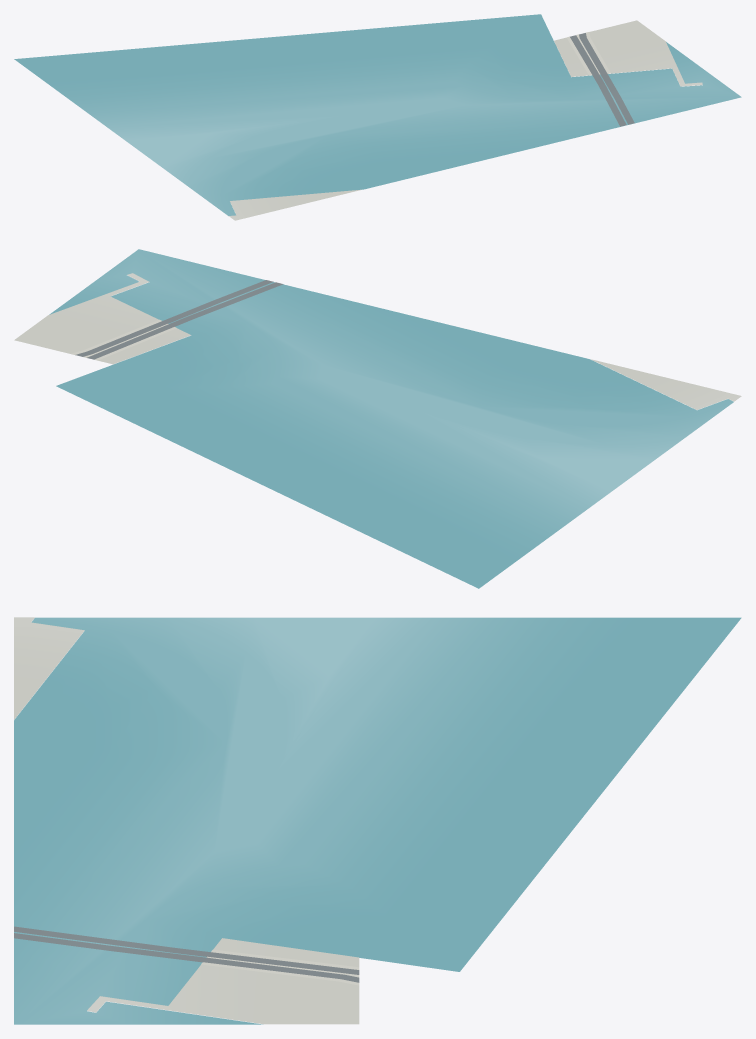
3 views of the same model, one above another, from view 1: azimuth 30°, elevation 25°; view 2: azimuth 150°, elevation 25°; view 3: azimuth 270°, elevation 25° (orthographic). The views are drawn at different scales.
Visible parts, largest first — view 1: city; view 2: city; view 3: city.
Part boxes in pixels (left/top/right/bottom): city: left=14, top=14, right=741, bottom=220; city: left=14, top=249, right=741, bottom=588; city: left=14, top=617, right=741, bottom=1024.
Bounding box in the file's own units: 500 × 0.4 × 378.
